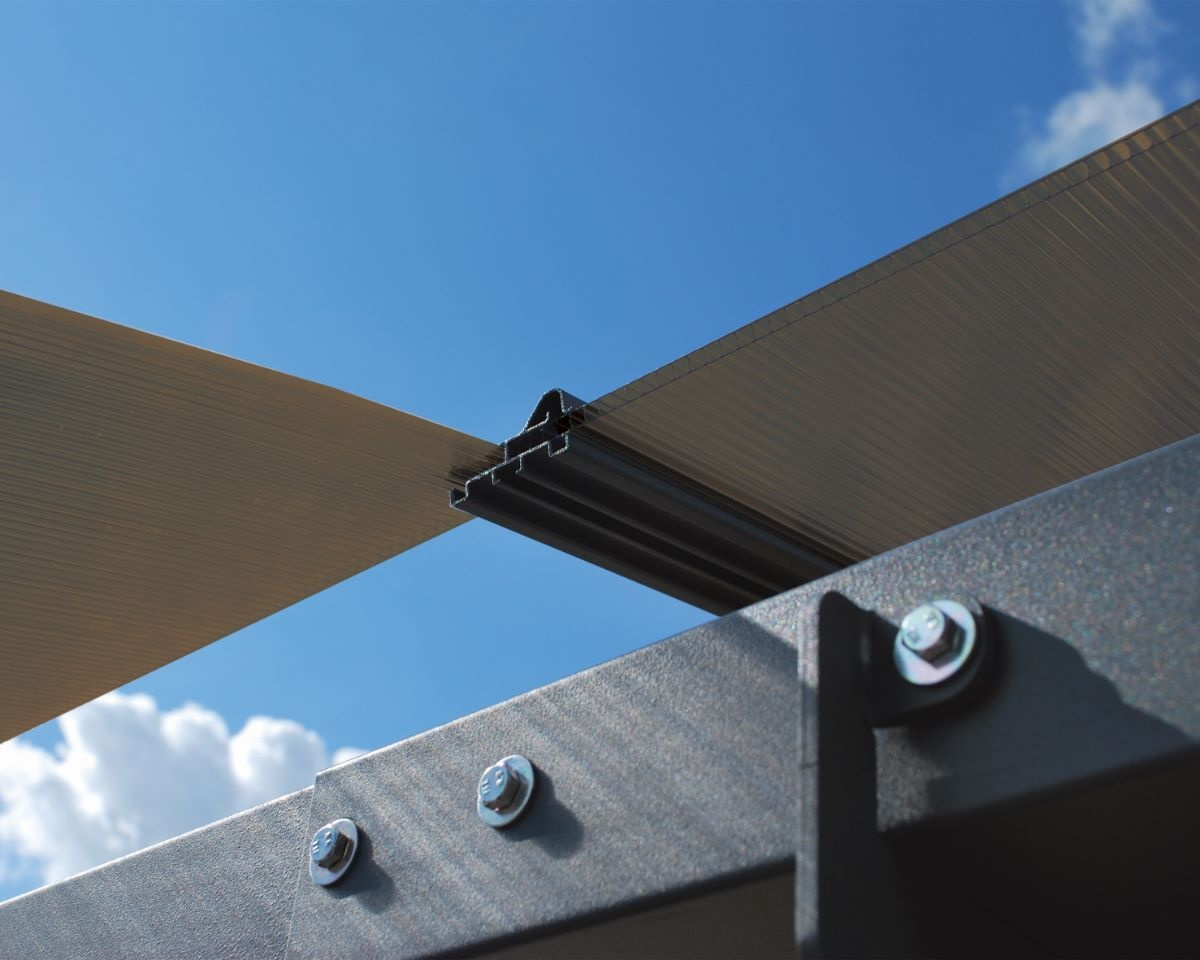bolt_a: (892, 597, 957, 663), (474, 762, 523, 813), (307, 824, 348, 872)
